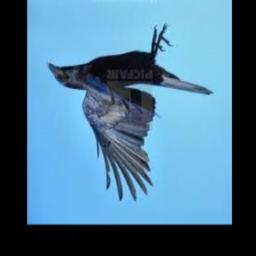Crow: (46, 24, 213, 202)
